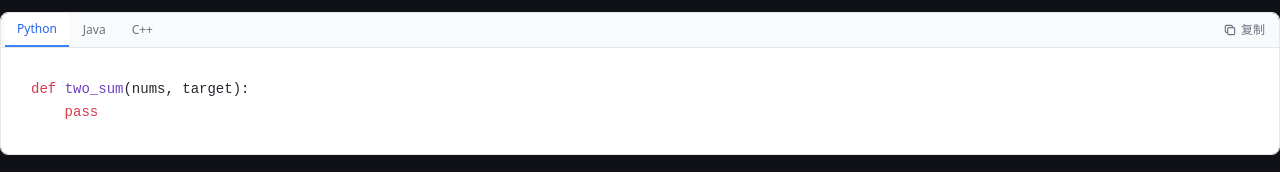
Test: CodeBlock › 复制成功后显示"已复制"文案
The width and height of the screenshot is (1280, 172).
Click the button titled "复制代码".
click(1244, 30)  # box [1213,16,1275,44]
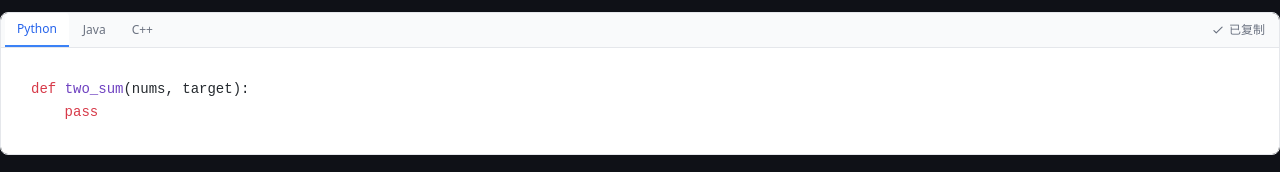
Check: the text "已复制" is shown, box [1229,22,1265,38]
